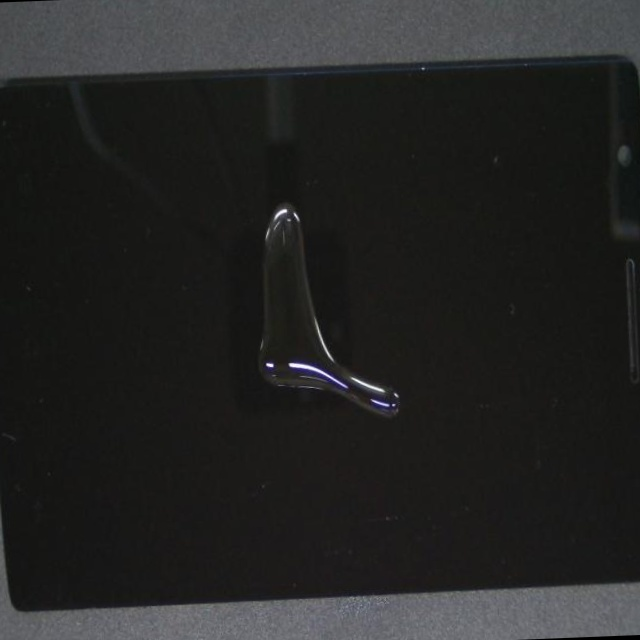oil: (215, 199, 591, 554)
